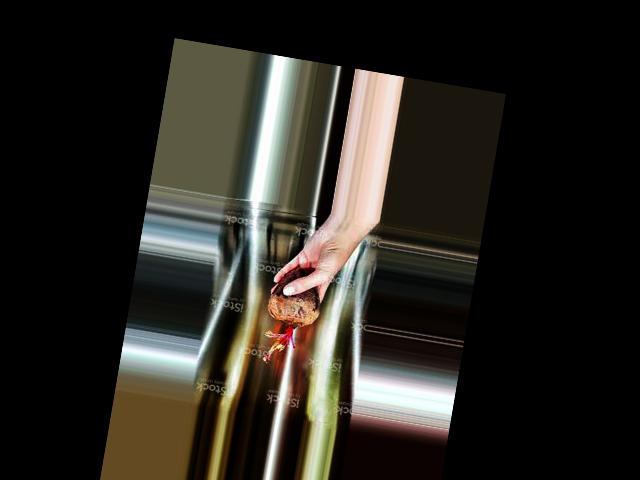beet: (258, 264, 325, 367)
